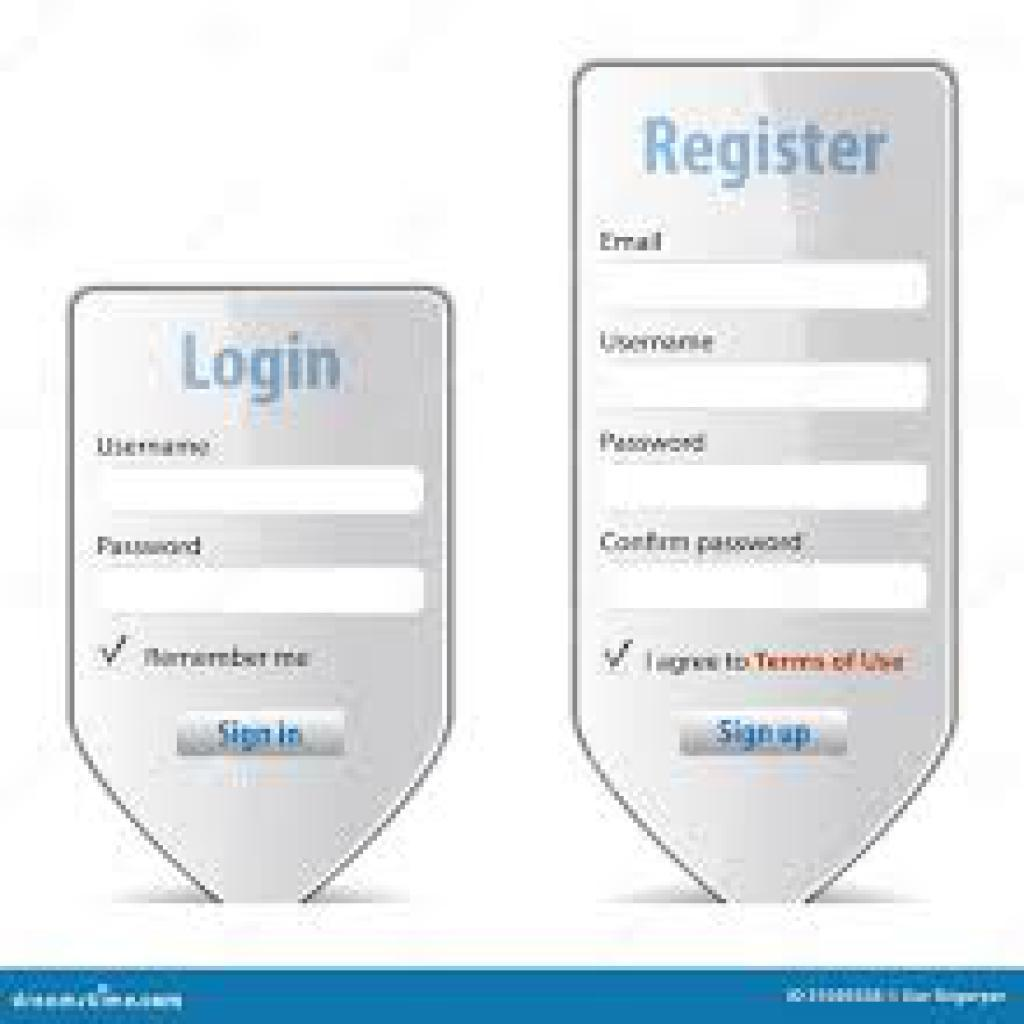button: (179, 708, 349, 758), (672, 708, 849, 753)
checkbox: (598, 631, 642, 679), (98, 637, 133, 676)
input: (595, 359, 930, 414), (599, 558, 928, 611), (101, 467, 428, 518), (604, 462, 928, 511), (102, 568, 425, 617), (601, 259, 924, 307)
